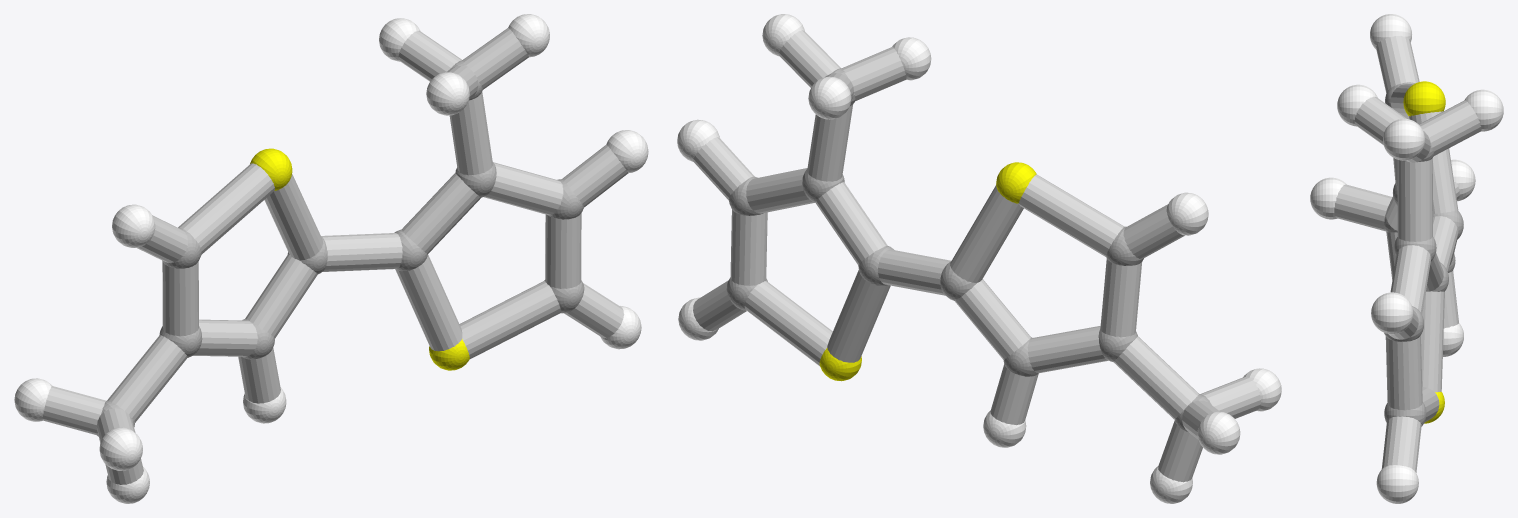
File: color.glb
3 renders of one model, left to right at view 1: azimuth 30°, elevation 25°; view 2: azimuth 150°, elevation 25°; view 3: azimuth 270°, elevation 25°, orthographic. The views are drawn at different scales.
Parts seen in each view (by area): view 1: grp7965, grp3621, grp1, grp7241; view 2: grp7965, grp3621, grp1, grp7241; view 3: grp7965, grp3621, grp1, grp7241.
Part boxes in pixels (box(x1,y1,x2,y2)): grp7965: box(42, 28, 628, 484); grp3621: box(14, 14, 648, 503); grp1: box(96, 60, 584, 436); grp7241: box(250, 148, 469, 370); grp7965: box(692, 30, 1260, 482); grp3621: box(677, 14, 1281, 503); grp1: box(726, 68, 1211, 431); grp7241: box(819, 162, 1036, 381); grp7965: box(1334, 35, 1481, 472); grp3621: box(1310, 14, 1503, 503); grp1: box(1384, 82, 1463, 426); grp7241: box(1403, 81, 1445, 423).
Bounding box in the file's own units: 9.47 × 5.95 × 2.75.
